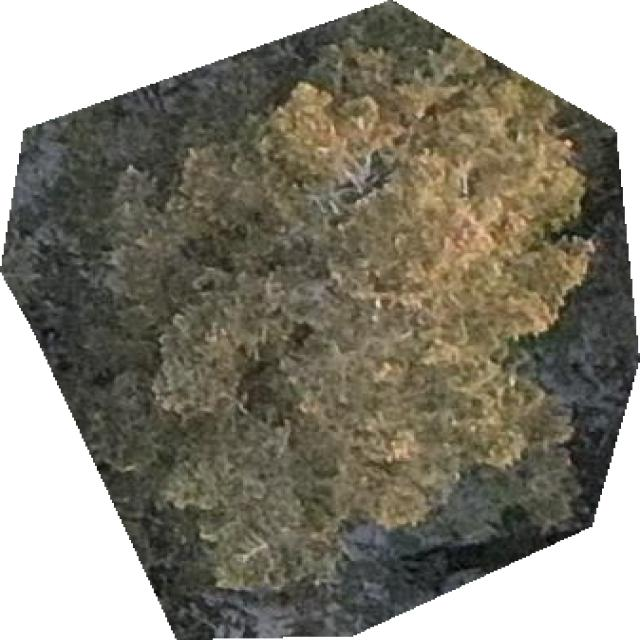spruce: (0, 2, 638, 638)
